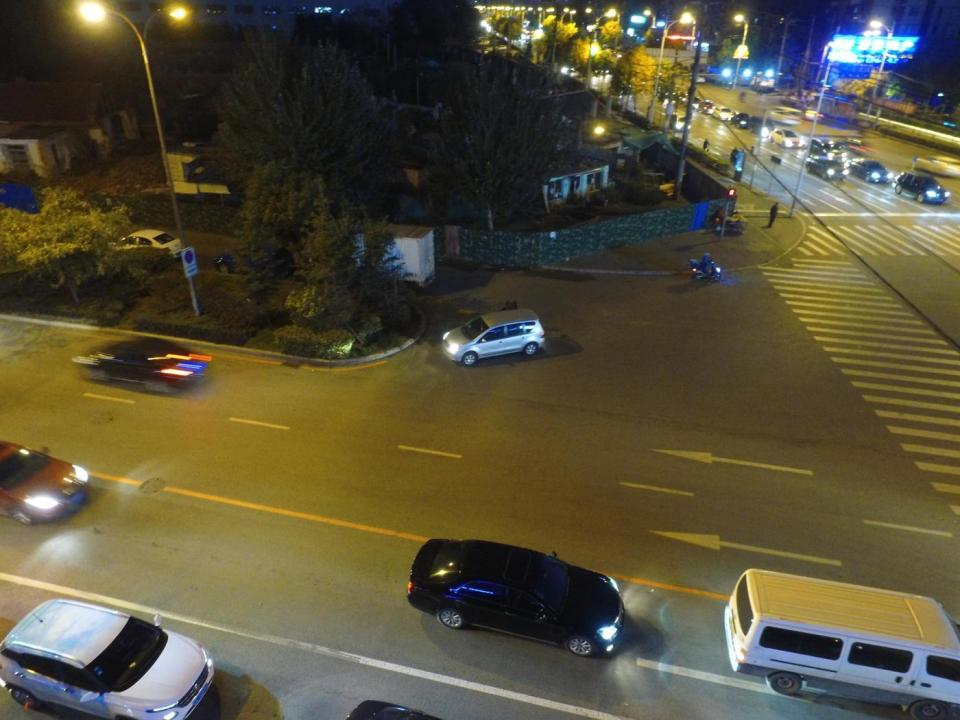car: (403, 536, 626, 656), (1, 599, 217, 720), (74, 332, 208, 397), (0, 437, 89, 525), (443, 308, 553, 365), (212, 240, 295, 281), (105, 227, 185, 267), (893, 168, 949, 211), (844, 154, 892, 186), (911, 151, 960, 180), (806, 152, 846, 183), (812, 133, 849, 162), (666, 107, 694, 136), (842, 126, 870, 155), (769, 126, 801, 150), (654, 80, 679, 101), (731, 110, 753, 130), (712, 103, 734, 121), (681, 94, 701, 110), (687, 73, 709, 87), (697, 100, 716, 116)
truck: (316, 219, 437, 290)
van: (722, 569, 960, 714), (751, 115, 775, 136)
